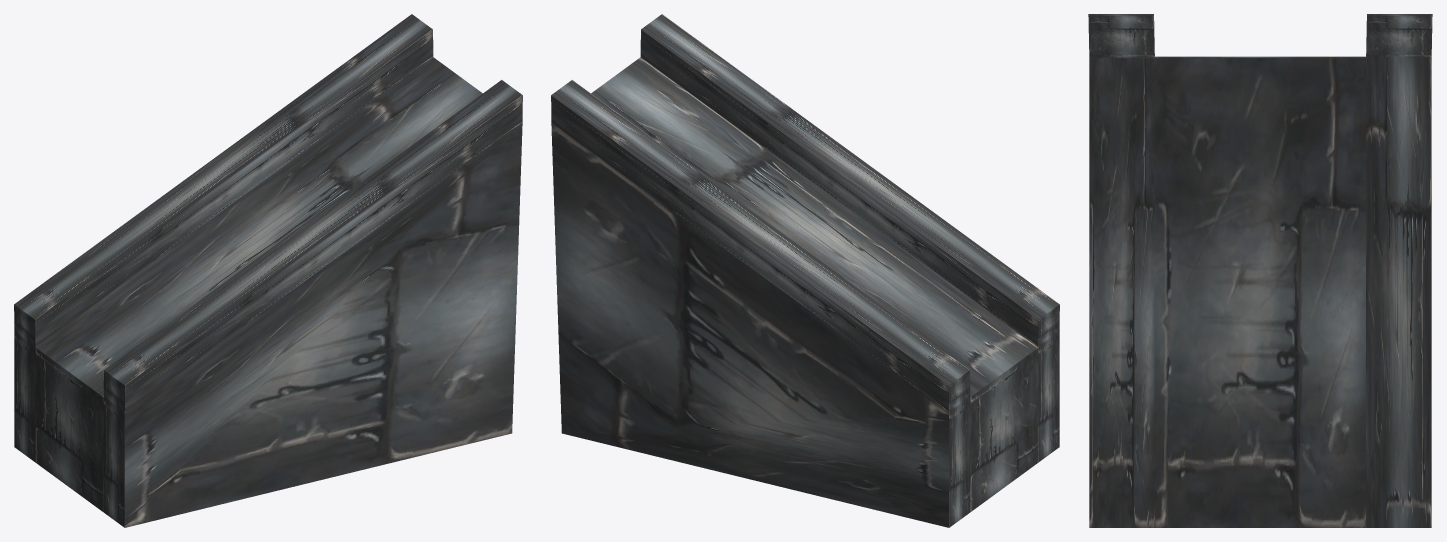
Rendered from Gate_Stairs2.fbx.
3 views of the same model, side by side, from view 1: azimuth 30°, elevation 25°; view 2: azimuth 150°, elevation 25°; view 3: azimuth 270°, elevation 25° (orthographic). The views are drawn at different scales.
Visible parts, largest first — view 1: icecrown_wall_ramp03; view 2: icecrown_wall_ramp03; view 3: icecrown_wall_ramp03.
Part boxes in pixels (x1,y1,x2,y2): icecrown_wall_ramp03: [14, 14, 522, 527]; icecrown_wall_ramp03: [551, 14, 1059, 527]; icecrown_wall_ramp03: [1088, 14, 1432, 527].
Bounding box in the file's own units: 12504 × 10089 × 6042.
